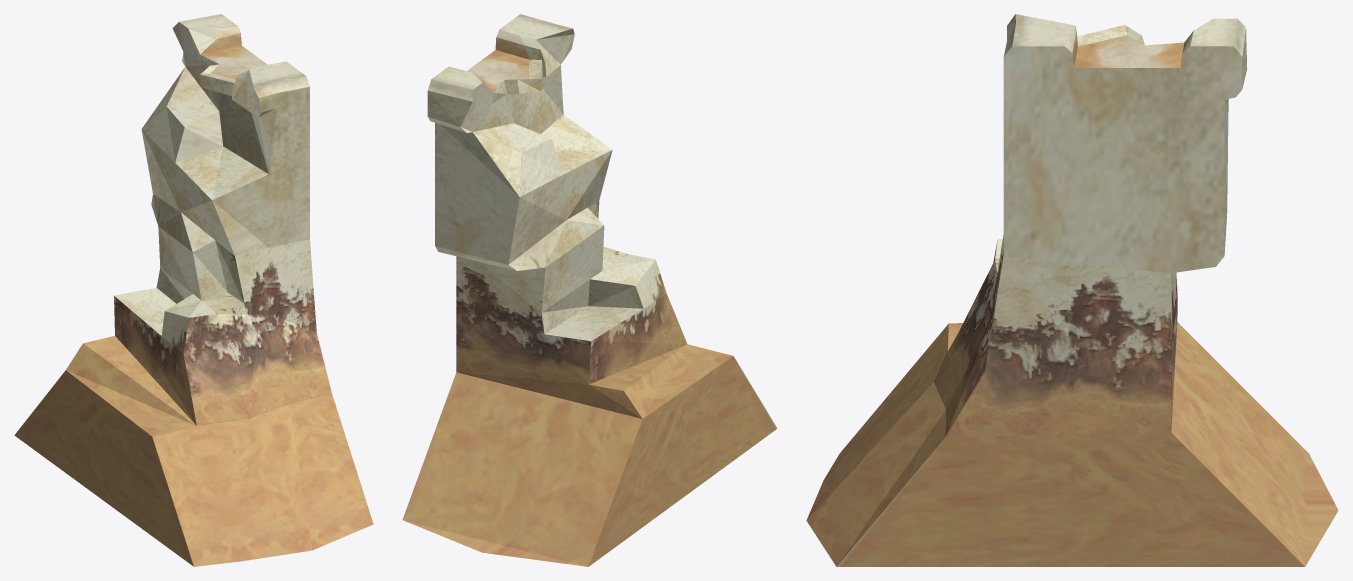
The model's file is C2SMWA5HDE_HL.obj.
3 views of the same model, side by side, from view 1: azimuth 30°, elevation 25°; view 2: azimuth 150°, elevation 25°; view 3: azimuth 270°, elevation 25° (orthographic). The views are drawn at different scales.
Visible parts, largest first — view 1: Node 0; view 2: Node 0; view 3: Node 0.
Part boxes in pixels (left/top/right/bottom): Node 0: left=14, top=14, right=373, bottom=566; Node 0: left=402, top=14, right=777, bottom=566; Node 0: left=806, top=14, right=1338, bottom=566.
Size of the model in its own units: 5.01 by 10.72 by 9.9.
3 materials, 3 textured.
